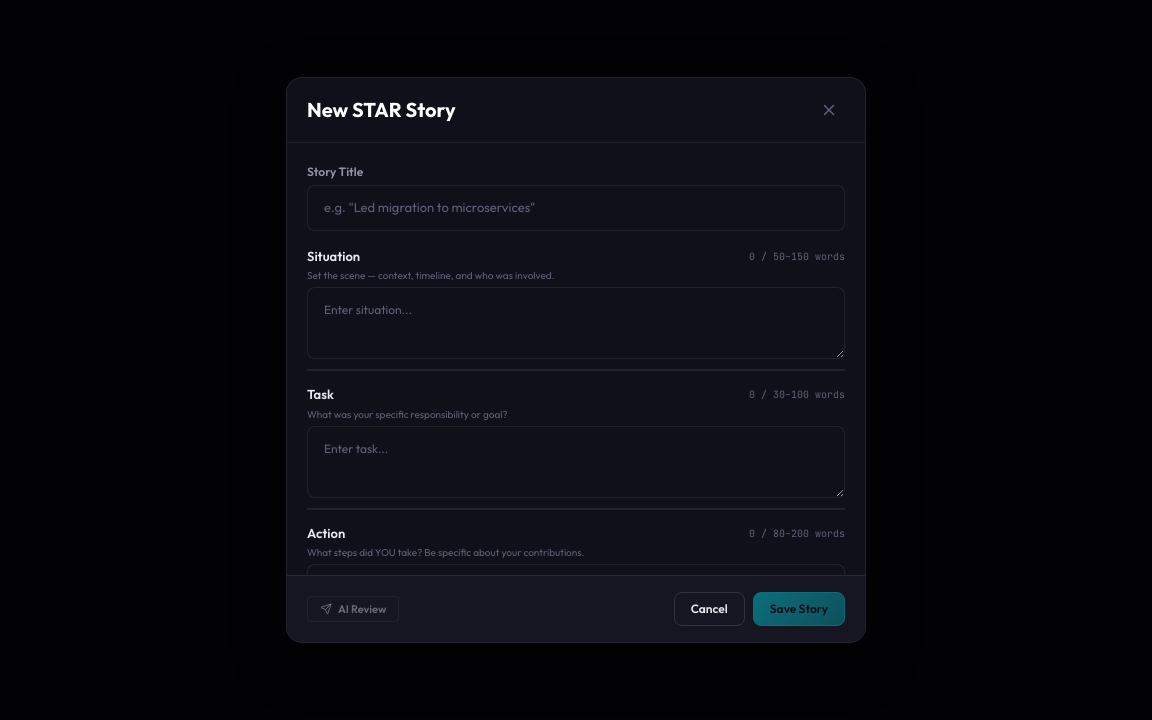
StarStoryEditor › Save Story button › Save Story button is enabled when at least one STAR field has text
Type "Some situation text" into the text box with placeholder "Enter situation..." at (576, 323), box [307,287,845,359]
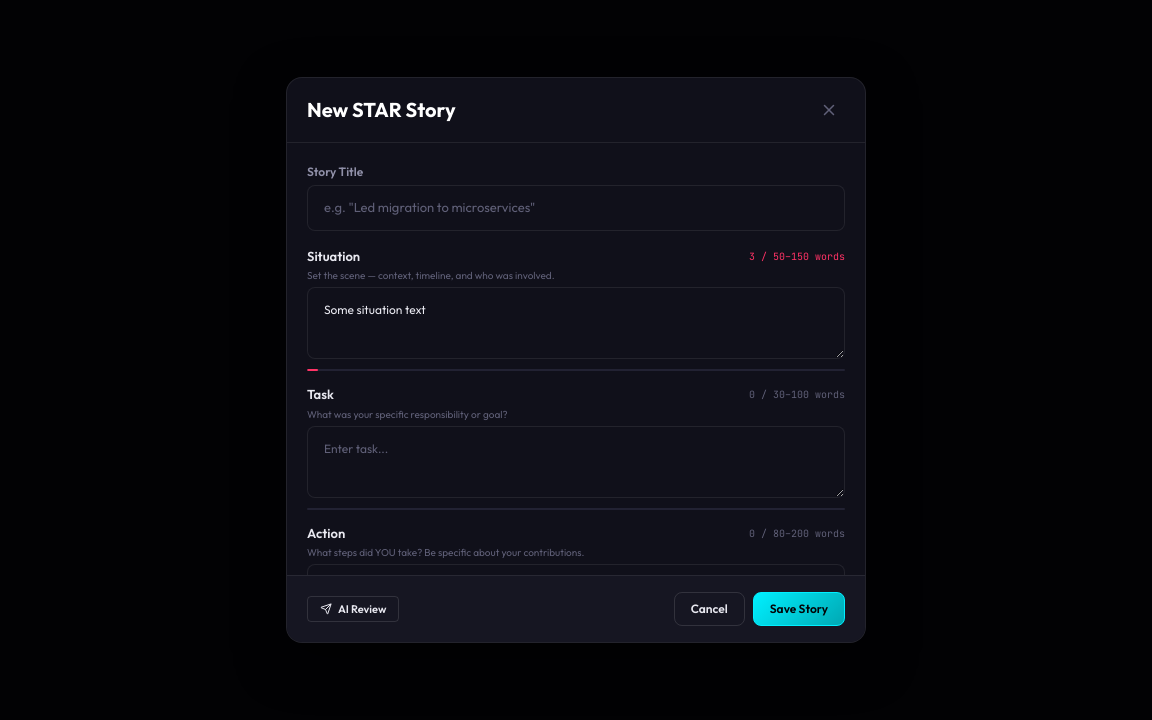
expect the button "Save Story" is enabled: met, box [753,592,845,626]
